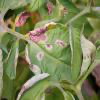Potato leaf late blight: (24, 19, 95, 83), (16, 72, 51, 99), (14, 10, 31, 29), (47, 3, 56, 18)
